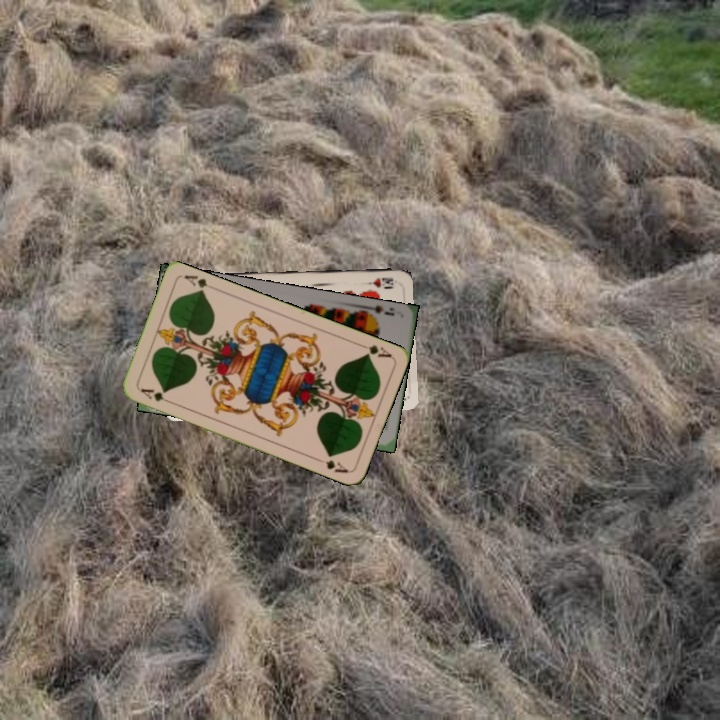GA: (354, 339, 394, 360), (137, 384, 174, 406)
H10: (357, 273, 396, 288)
S9: (360, 301, 397, 321)
